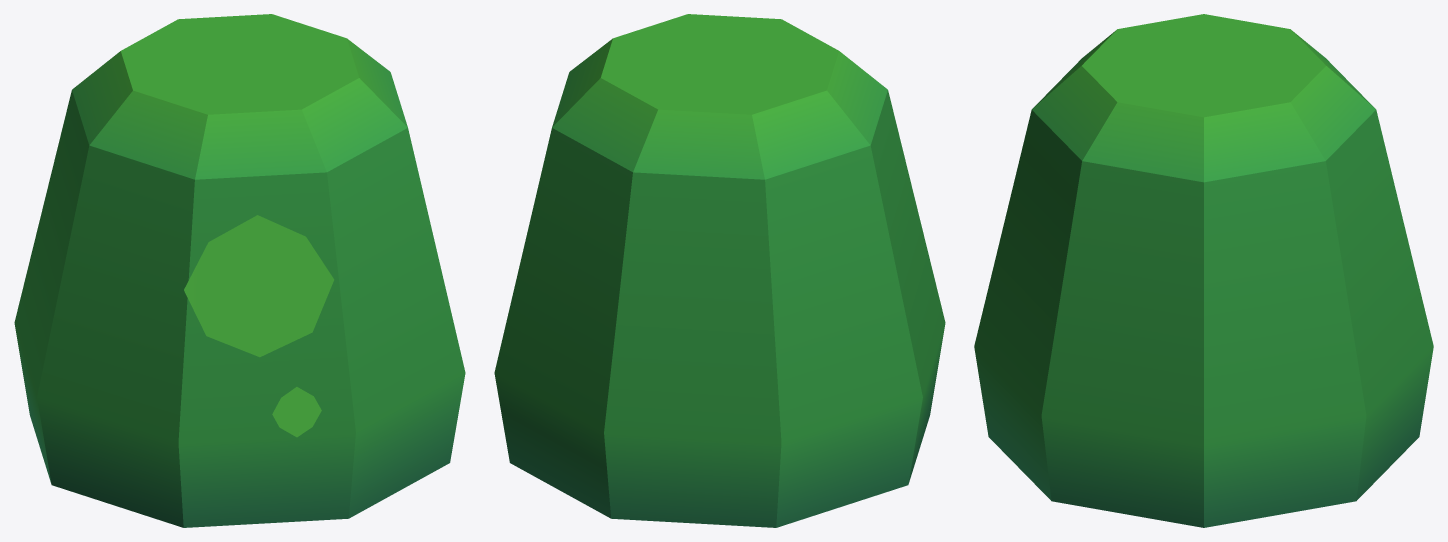
File: garyCannonLightBulbGreen.glb
3 renders of one model, left to right at view 1: azimuth 30°, elevation 25°; view 2: azimuth 150°, elevation 25°; view 3: azimuth 270°, elevation 25°, orthographic.
Parts seen in each view (by area): view 1: garyCannonLightBulbGreen; view 2: garyCannonLightBulbGreen; view 3: garyCannonLightBulbGreen.
Part boxes in pixels (<box>): garyCannonLightBulbGreen: <box>14,14,465,527</box>; garyCannonLightBulbGreen: <box>494,14,945,527</box>; garyCannonLightBulbGreen: <box>974,14,1433,527</box>.
Bounding box in the file's own units: 0.3 × 0.2647 × 0.297.
